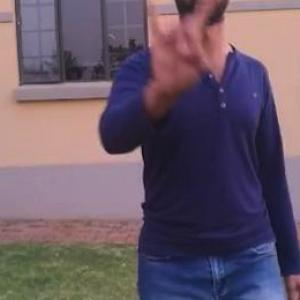takeoff-hand: (142, 0, 223, 98)
